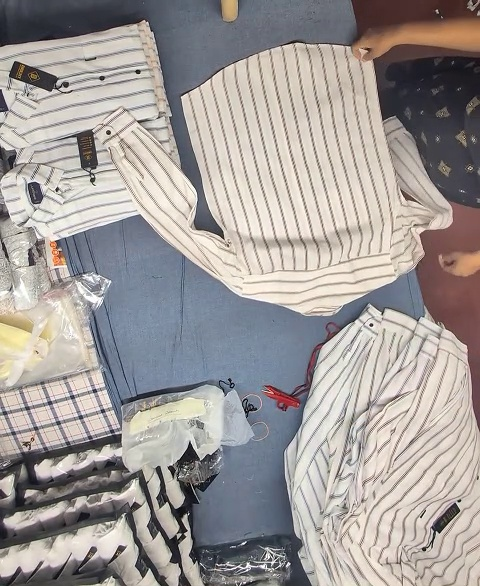SHIRT: (0, 101, 480, 513)
